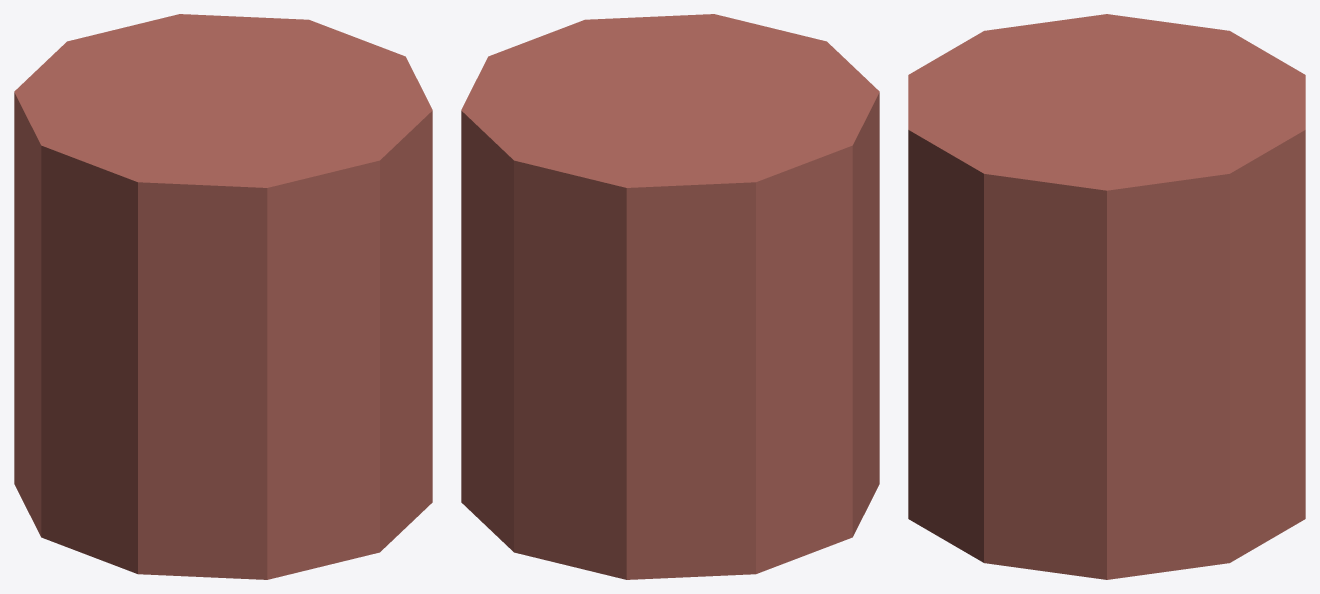
The model's file is SM_Pipe_Reactor_DropElbow.fbx.
3 views of the same model, side by side, from view 1: azimuth 30°, elevation 25°; view 2: azimuth 150°, elevation 25°; view 3: azimuth 270°, elevation 25° (orthographic).
Visible parts, largest first — view 1: SM_Pipe_Reactor_DropElbow; view 2: SM_Pipe_Reactor_DropElbow; view 3: SM_Pipe_Reactor_DropElbow.
Part boxes in pixels (bbox=[...]): SM_Pipe_Reactor_DropElbow: bbox=[14, 14, 432, 579]; SM_Pipe_Reactor_DropElbow: bbox=[461, 14, 879, 579]; SM_Pipe_Reactor_DropElbow: bbox=[908, 14, 1305, 579].
Size of the model in its own units: 14.6 by 13.89 by 15.
